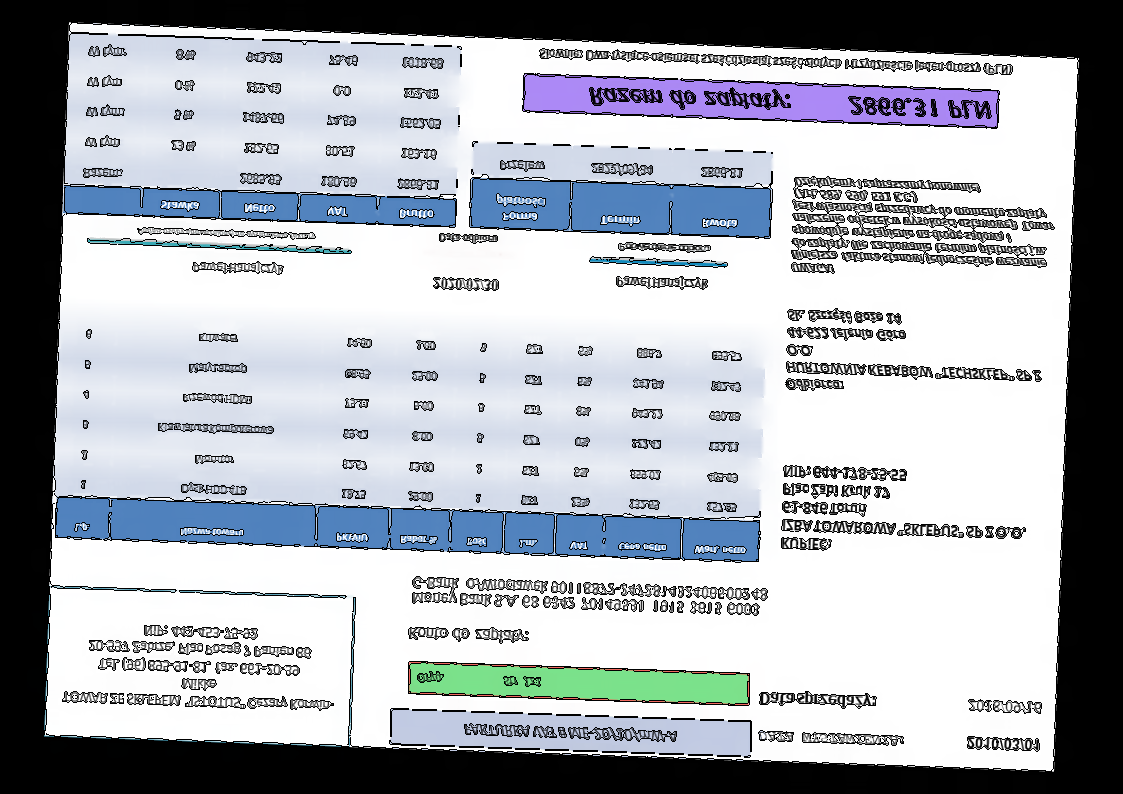Table: (53, 312, 768, 565), (63, 31, 463, 229), (469, 141, 774, 240)
TextBox: (790, 174, 1060, 285), (60, 620, 338, 713), (783, 306, 1044, 403), (778, 462, 1029, 562), (585, 80, 995, 125), (537, 43, 1015, 79), (409, 575, 771, 618), (462, 720, 681, 745), (757, 726, 907, 750), (134, 224, 316, 243), (406, 622, 530, 646), (757, 688, 879, 712), (415, 669, 543, 689), (613, 271, 709, 293), (190, 259, 286, 280), (963, 733, 1040, 754), (966, 696, 1046, 716), (616, 240, 712, 256), (431, 274, 500, 294), (436, 231, 499, 246)
